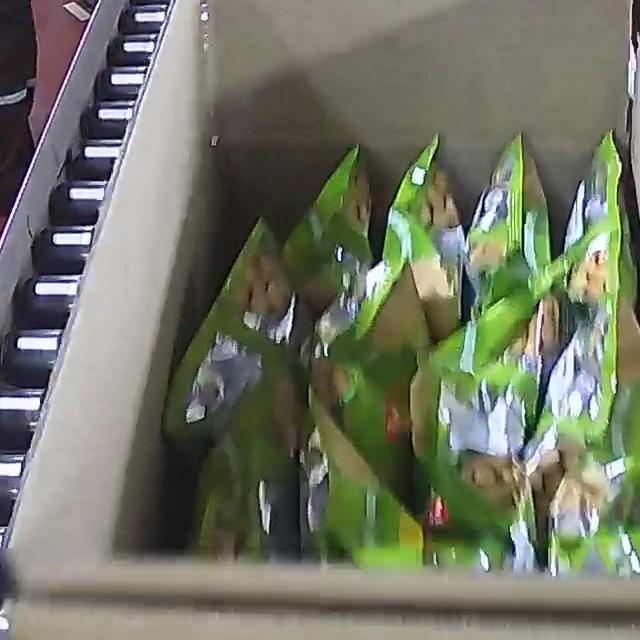yogurt: (158, 124, 640, 577)
